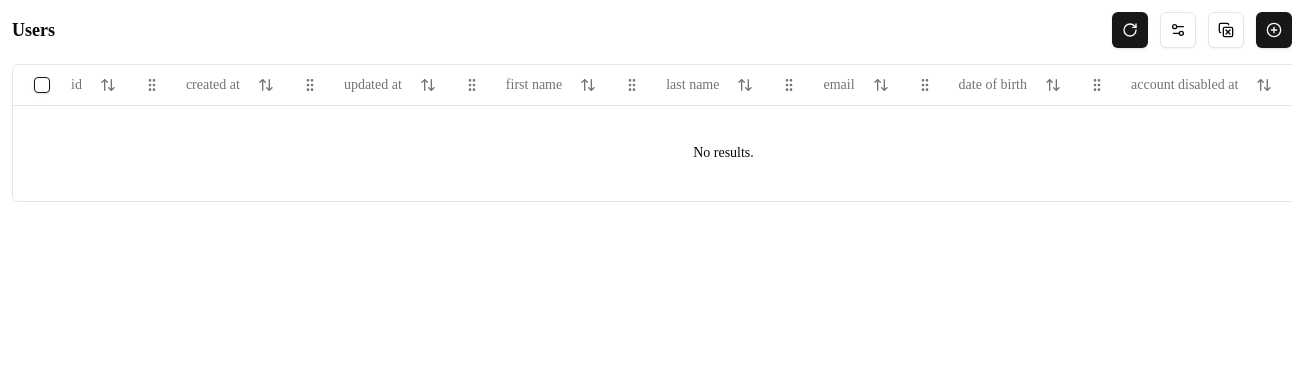
AutoTableFullActions component › should render only selected columns after select columns
Click the button with test id "auth-table-select-columns-button" at point(1178, 30), box [1160,12,1196,48]
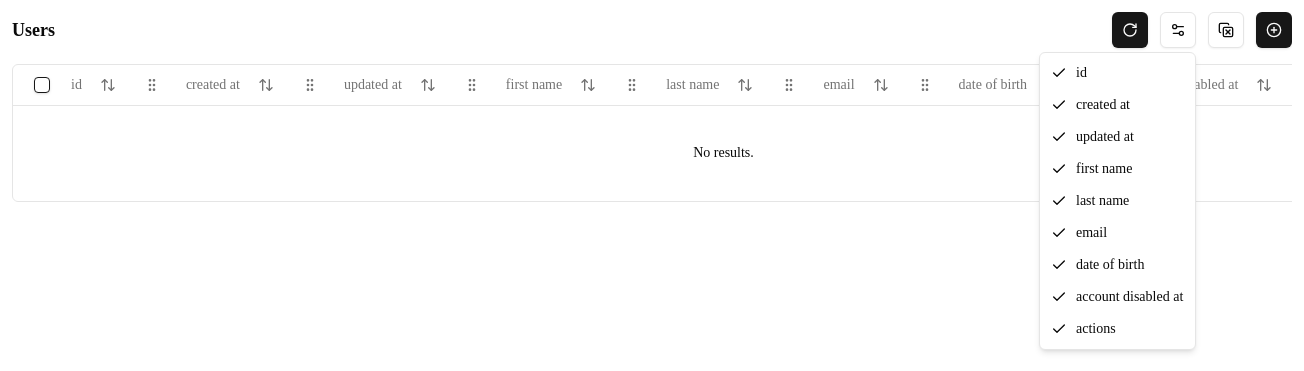
Click the menu item "created at" at point(1090, 105), box [1051,97,1130,113]
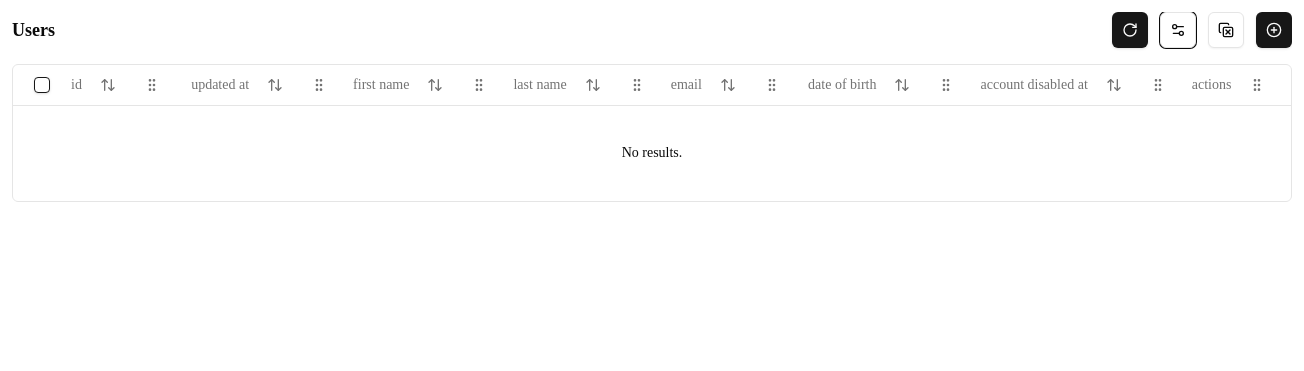
Click the button with test id "auth-table-select-columns-button" at point(1178, 30), box [1160,12,1196,48]
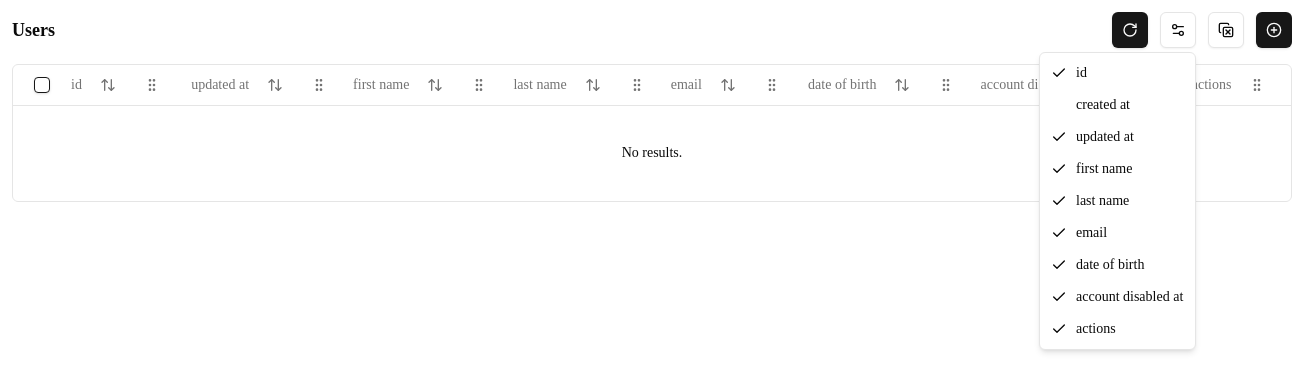
Click the menu item "updated at" at point(1092, 137), box [1051,129,1134,145]
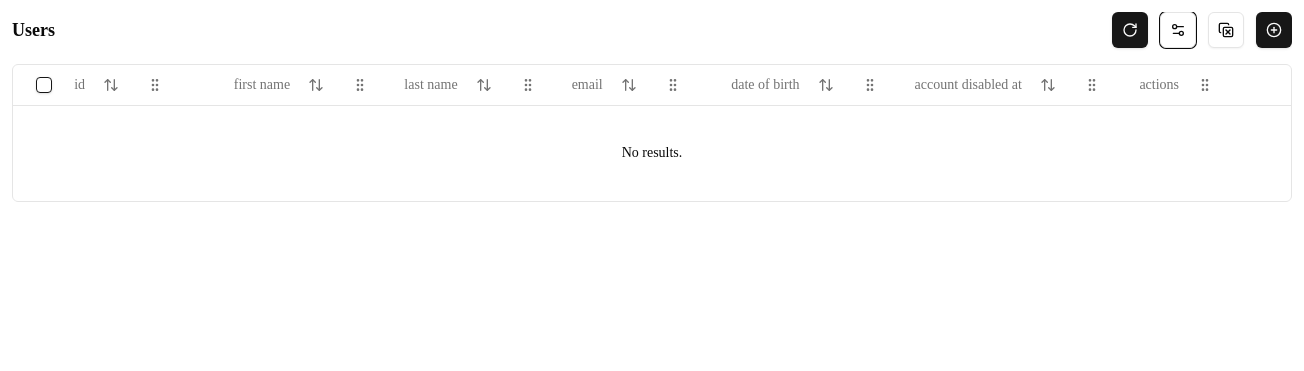
Expected: the text "id" is shown, [74,67,173,103]
Expected: the menu item "created at" is gone
Expected: the text "updated at" is gone
